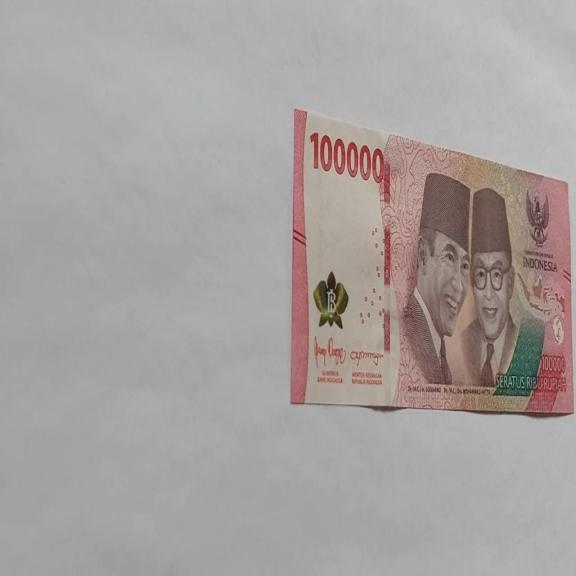Kertas: (290, 107, 573, 415), (309, 130, 384, 184)
